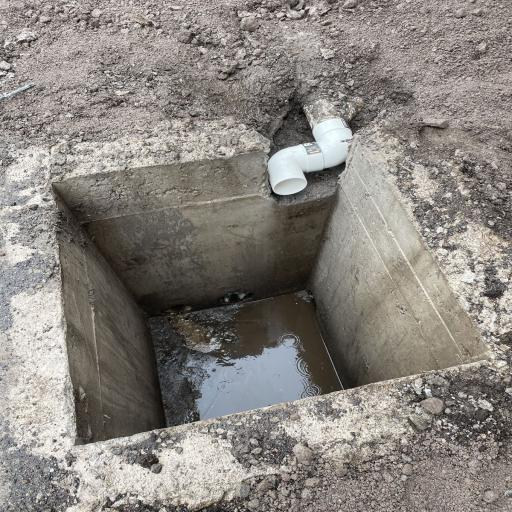construction_fence: (46, 130, 500, 452)
